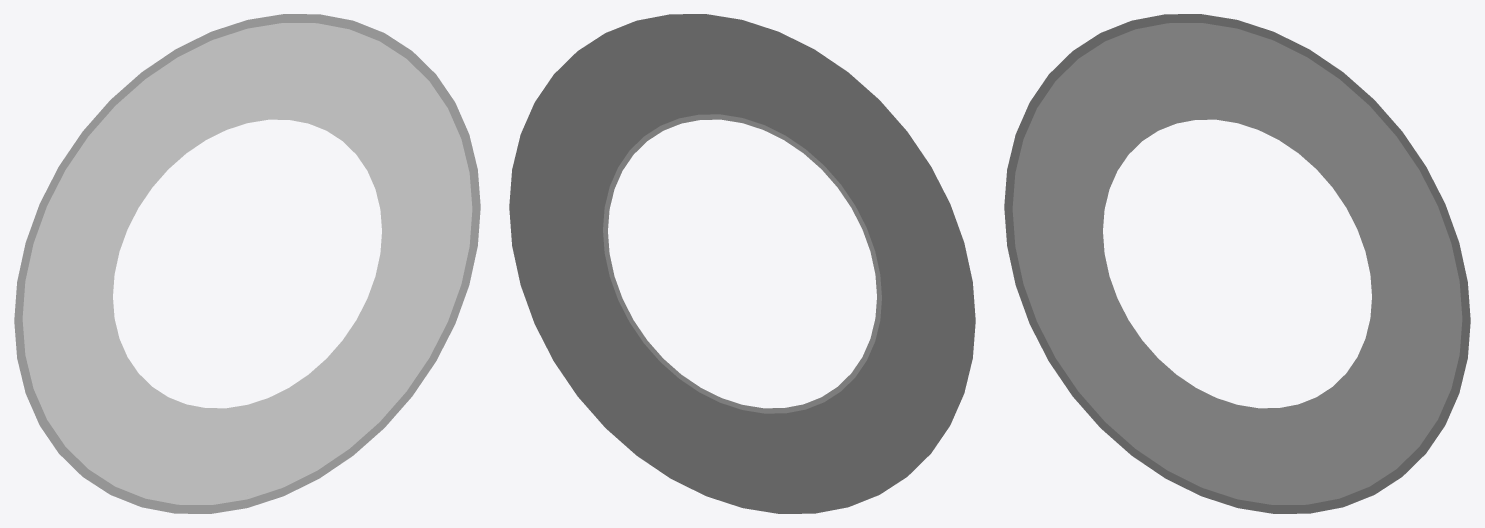
The model's file is pref_GuideWidget_Text.fbx.
The picture shows the model from 3 angles, left to right: view 1: azimuth 30°, elevation 25°; view 2: azimuth 150°, elevation 25°; view 3: azimuth 330°, elevation 25°; orthographic projection.
Visible parts, largest first — view 1: sm_fx_circle_02, sm_fx_circle_01; view 2: sm_fx_circle_01, sm_fx_circle_02; view 3: sm_fx_circle_02, sm_fx_circle_01.
Part boxes in pixels (x1=…): sm_fx_circle_02: x1=22, y1=23, x2=472, y2=504; sm_fx_circle_01: x1=14, y1=14, x2=480, y2=513; sm_fx_circle_01: x1=509, y1=14, x2=975, y2=513; sm_fx_circle_02: x1=603, y1=114, x2=881, y2=413; sm_fx_circle_02: x1=1012, y1=23, x2=1462, y2=504; sm_fx_circle_01: x1=1004, y1=14, x2=1470, y2=513.
Bounding box in the file's own units: 142 × 142 × 3.59e-05.
